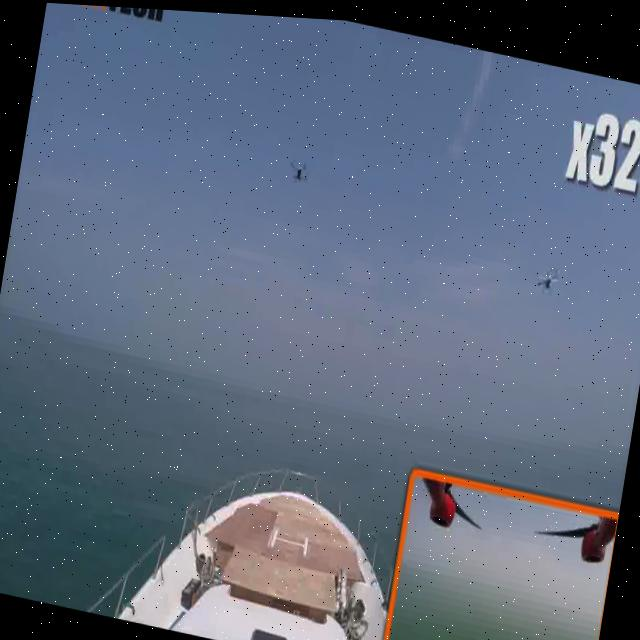drone: (273, 145, 324, 202), (524, 251, 574, 306)
